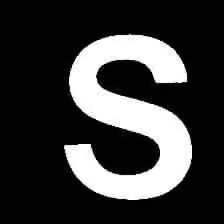LTR_S: (57, 23, 202, 204)
